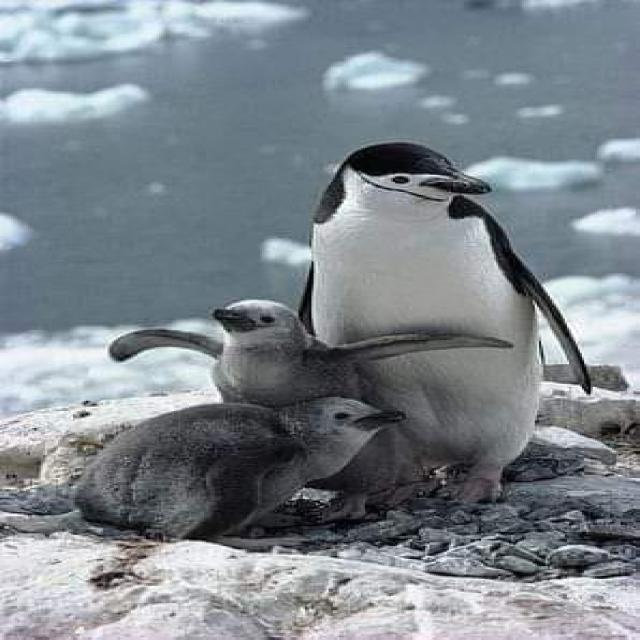Penguins: (308, 131, 556, 530), (72, 390, 406, 556), (170, 288, 392, 500)
